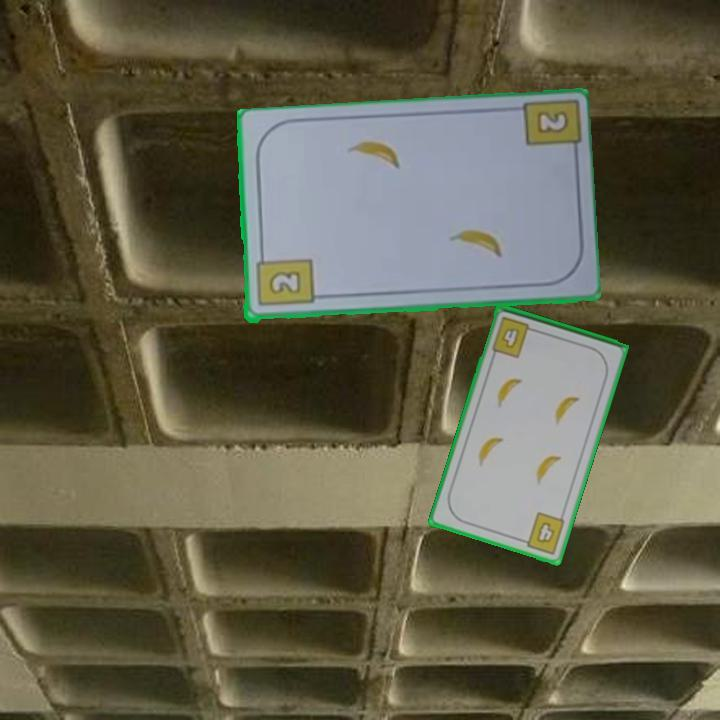2b: (252, 248, 316, 310), (536, 111, 568, 134)
4b: (516, 508, 568, 557), (488, 313, 539, 361)
